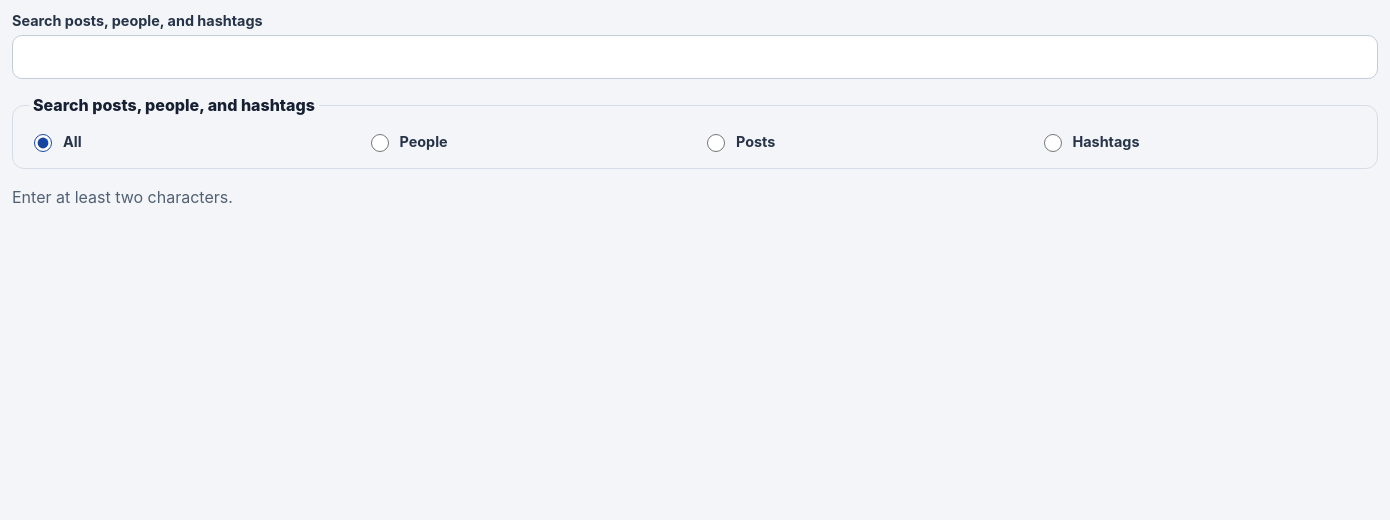
it: SearchView › waits 300 ms, accepts two Unicode code points, and renders every result kind
This screenshot has width=1390, height=520.
Type "한글" into the search field at (695, 57), box top-left (12, 35), bottom-right (1378, 79)
Wait 300 ms
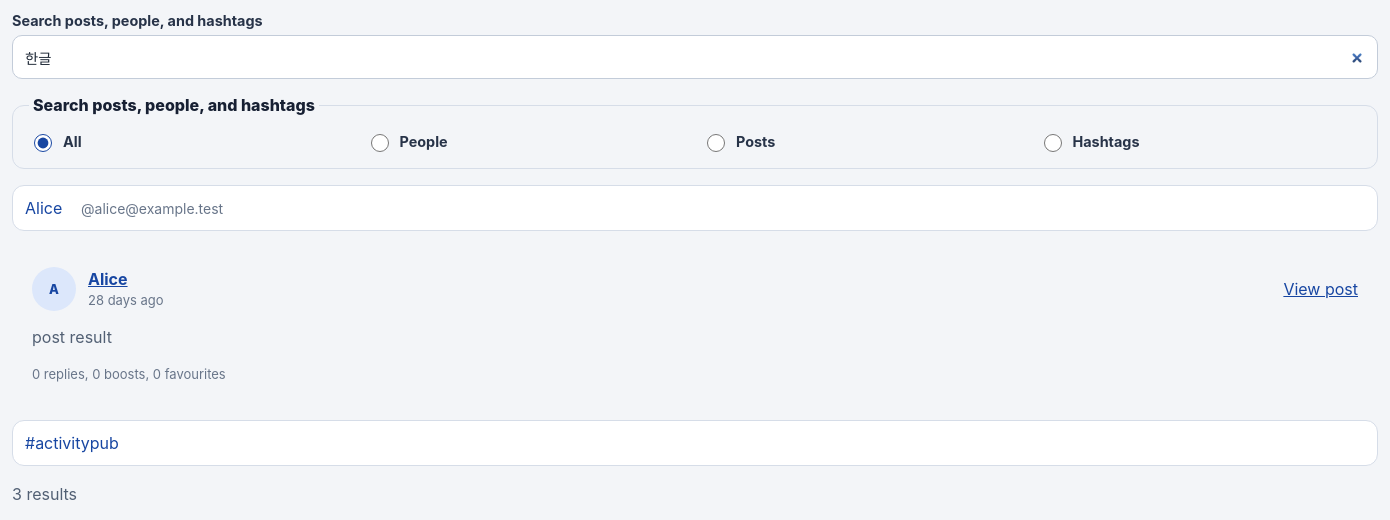
Result: the text "post result" is shown at top-left (32, 327), bottom-right (112, 347)
Result: the link "#activitypub" is shown at top-left (12, 420), bottom-right (1378, 466)
Result: the message reads "3 results" at top-left (12, 484), bottom-right (77, 504)
